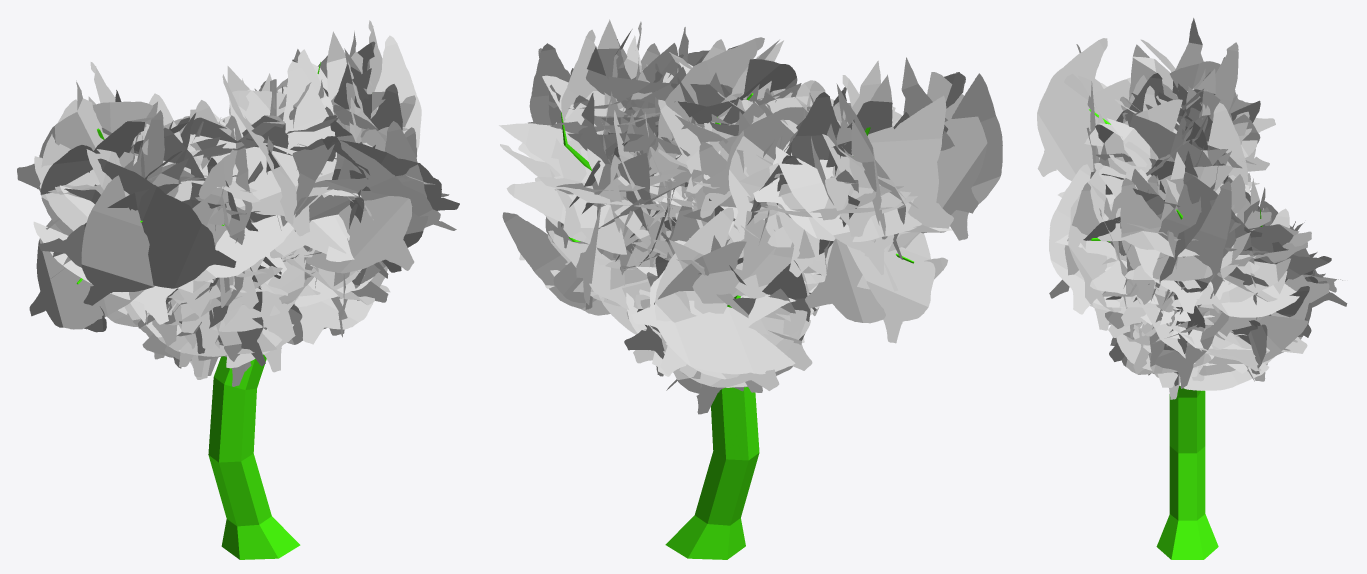
Rendered from Sakura.fbx.
3 views of the same model, side by side, from view 1: azimuth 30°, elevation 25°; view 2: azimuth 150°, elevation 25°; view 3: azimuth 270°, elevation 25° (orthographic). The views are drawn at different scales.
Parts seen in each view (by area): view 1: Sakura; view 2: Sakura; view 3: Sakura.
Boxes of the visible parts, x1,y1,x2,y2 form: Sakura: (17, 20, 459, 559); Sakura: (499, 19, 1002, 559); Sakura: (1037, 18, 1347, 559).
Size of the model in its own units: 2550 by 3023 by 1917.
